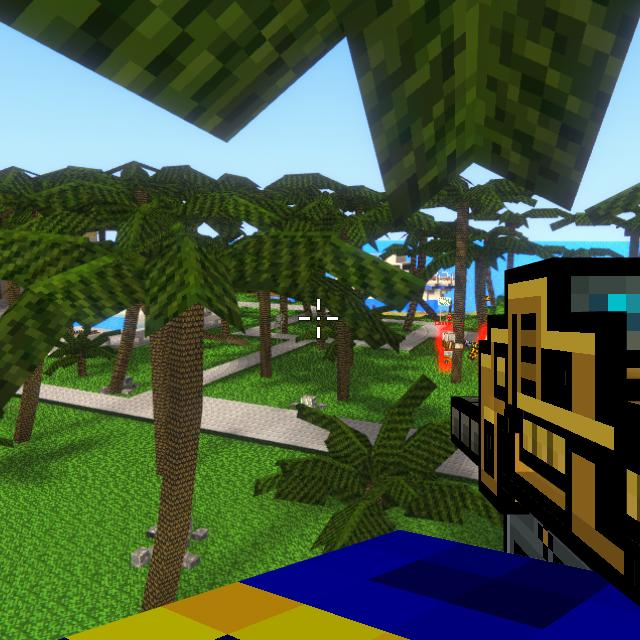Enemy: (442, 332, 463, 364)
